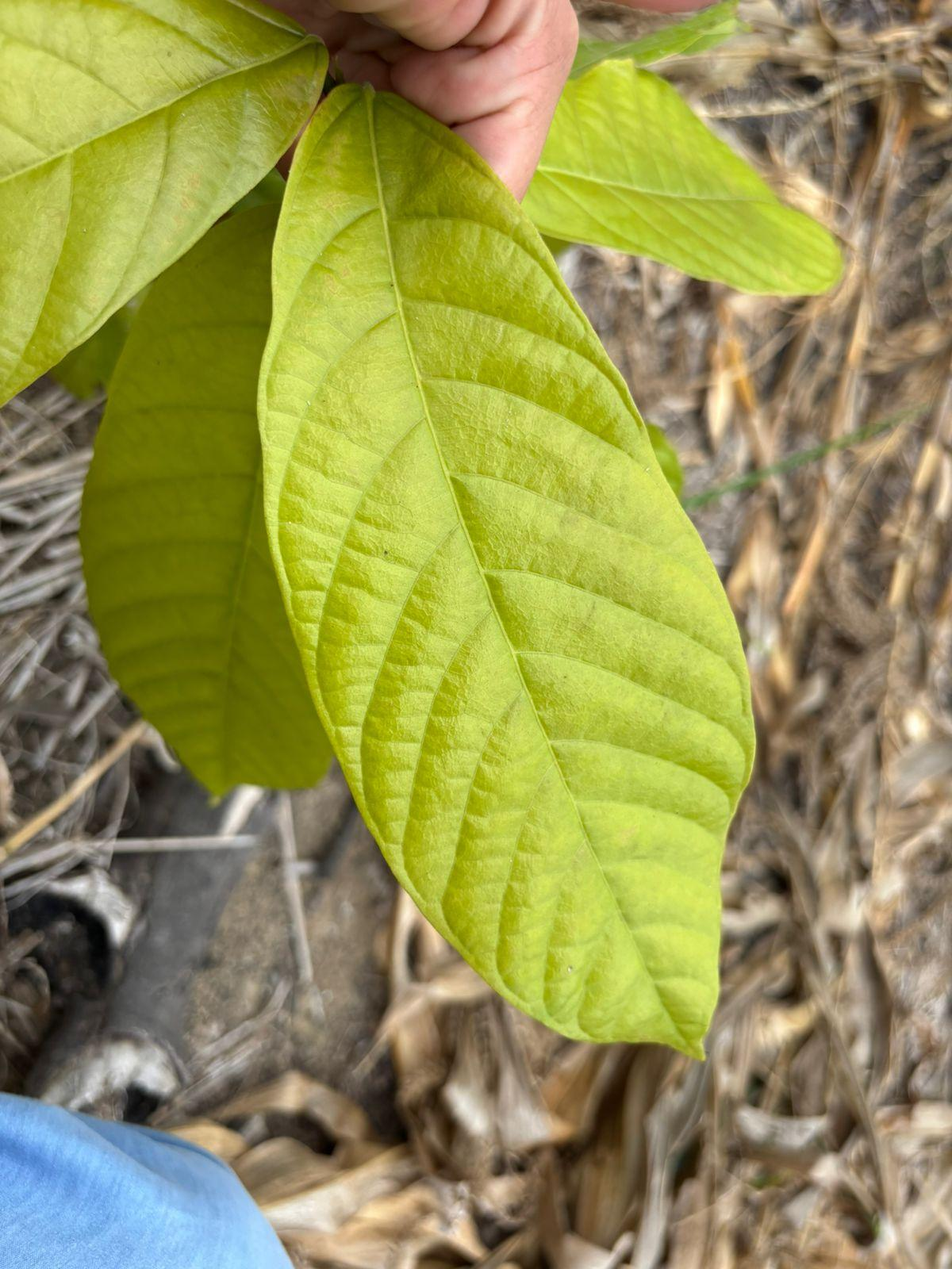deficiencia_nitrogeno: (258, 85, 754, 1057)
